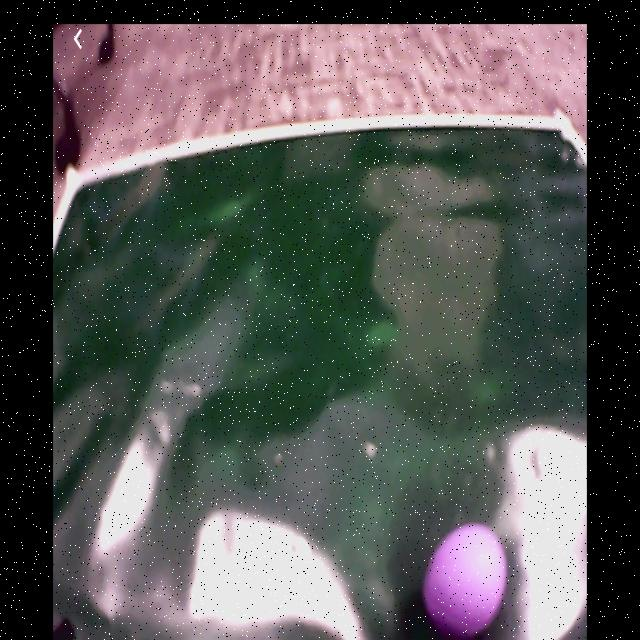ball: (424, 524, 509, 640)
